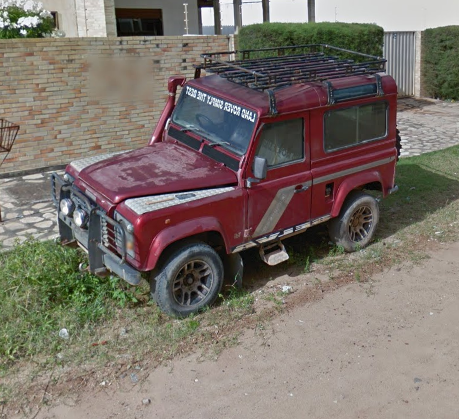car: (50, 39, 403, 320)
